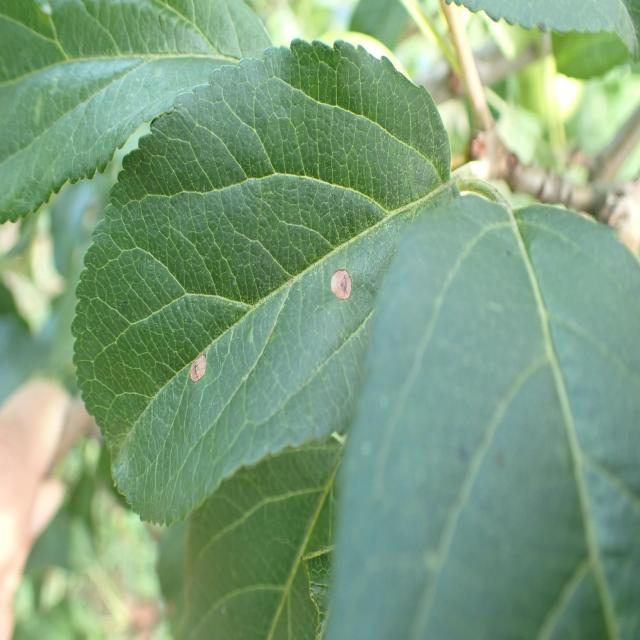Black Rot: (174, 336, 222, 404), (315, 260, 361, 323)
